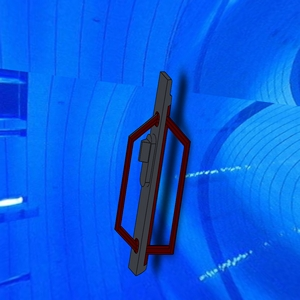submarine: (101, 68, 208, 281)
